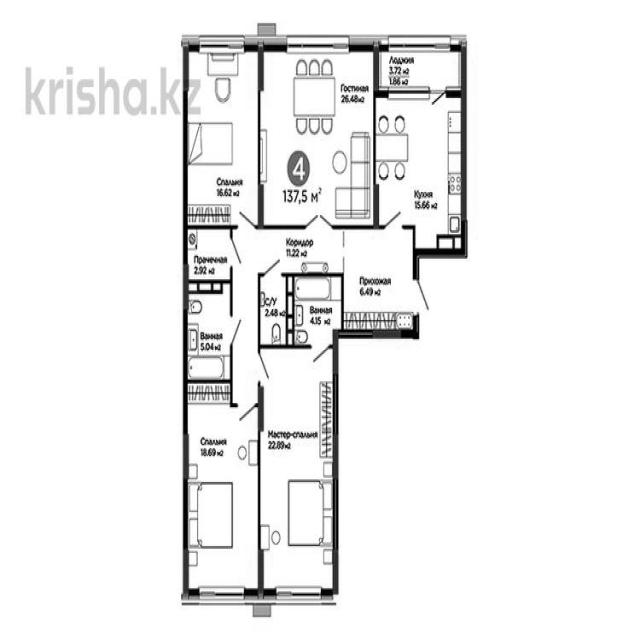balcony: (378, 46, 465, 90)
bathroom: (187, 285, 231, 379), (294, 274, 341, 342), (262, 275, 286, 342)
hallway: (344, 255, 415, 329), (235, 229, 342, 268)
kitchen: (376, 93, 465, 247)
living_room: (262, 46, 375, 224), (262, 348, 336, 594), (189, 395, 260, 593), (183, 45, 260, 222)
other: (184, 229, 232, 279)
